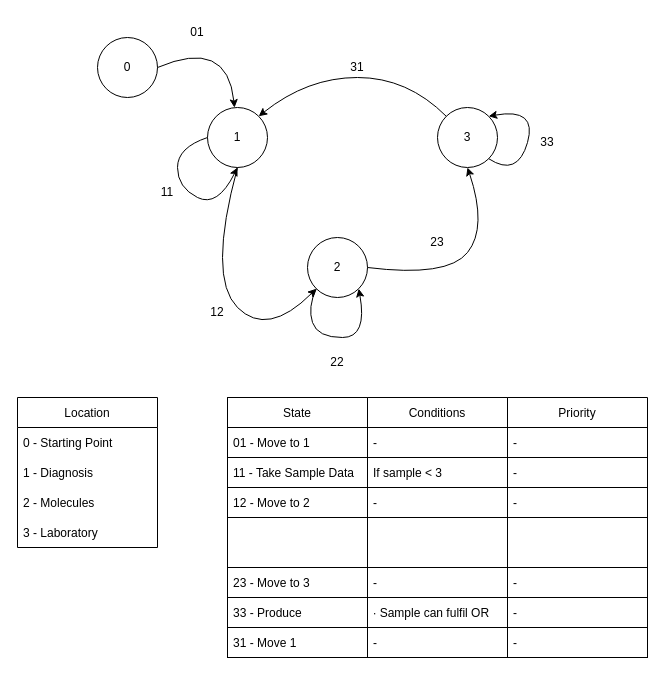
Image size: 665x675. Some labels were removed from this diagram. The shapes that lost their labels are listed below. From the top down, each one's centre as x and y in pixels, then its label:
At pixel 297 542: "22 - Take molecules".
At pixel 437 542: "∙ If storage not full OR ∙ All sample not fulfill".
At pixel 577 542: "Sample cost lowest first".
